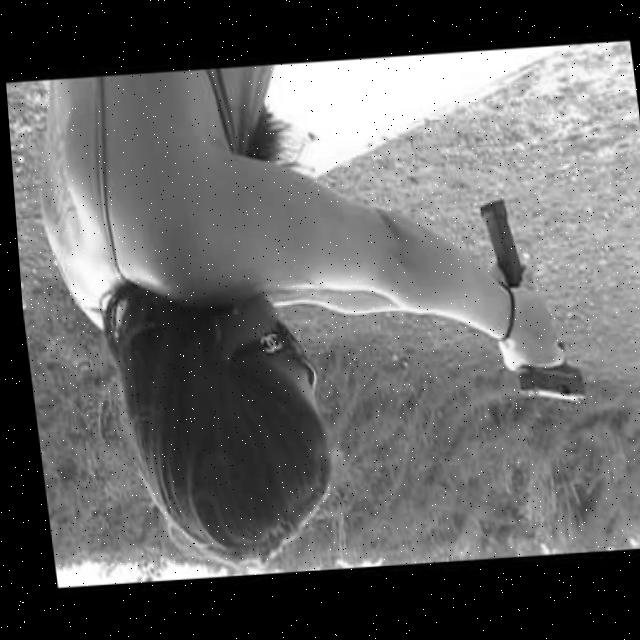firearm: (512, 363, 581, 410)
